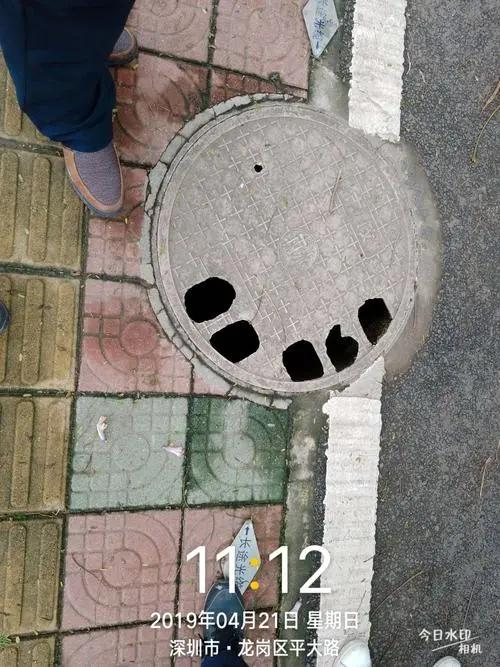wellcover: (145, 73, 427, 404)
